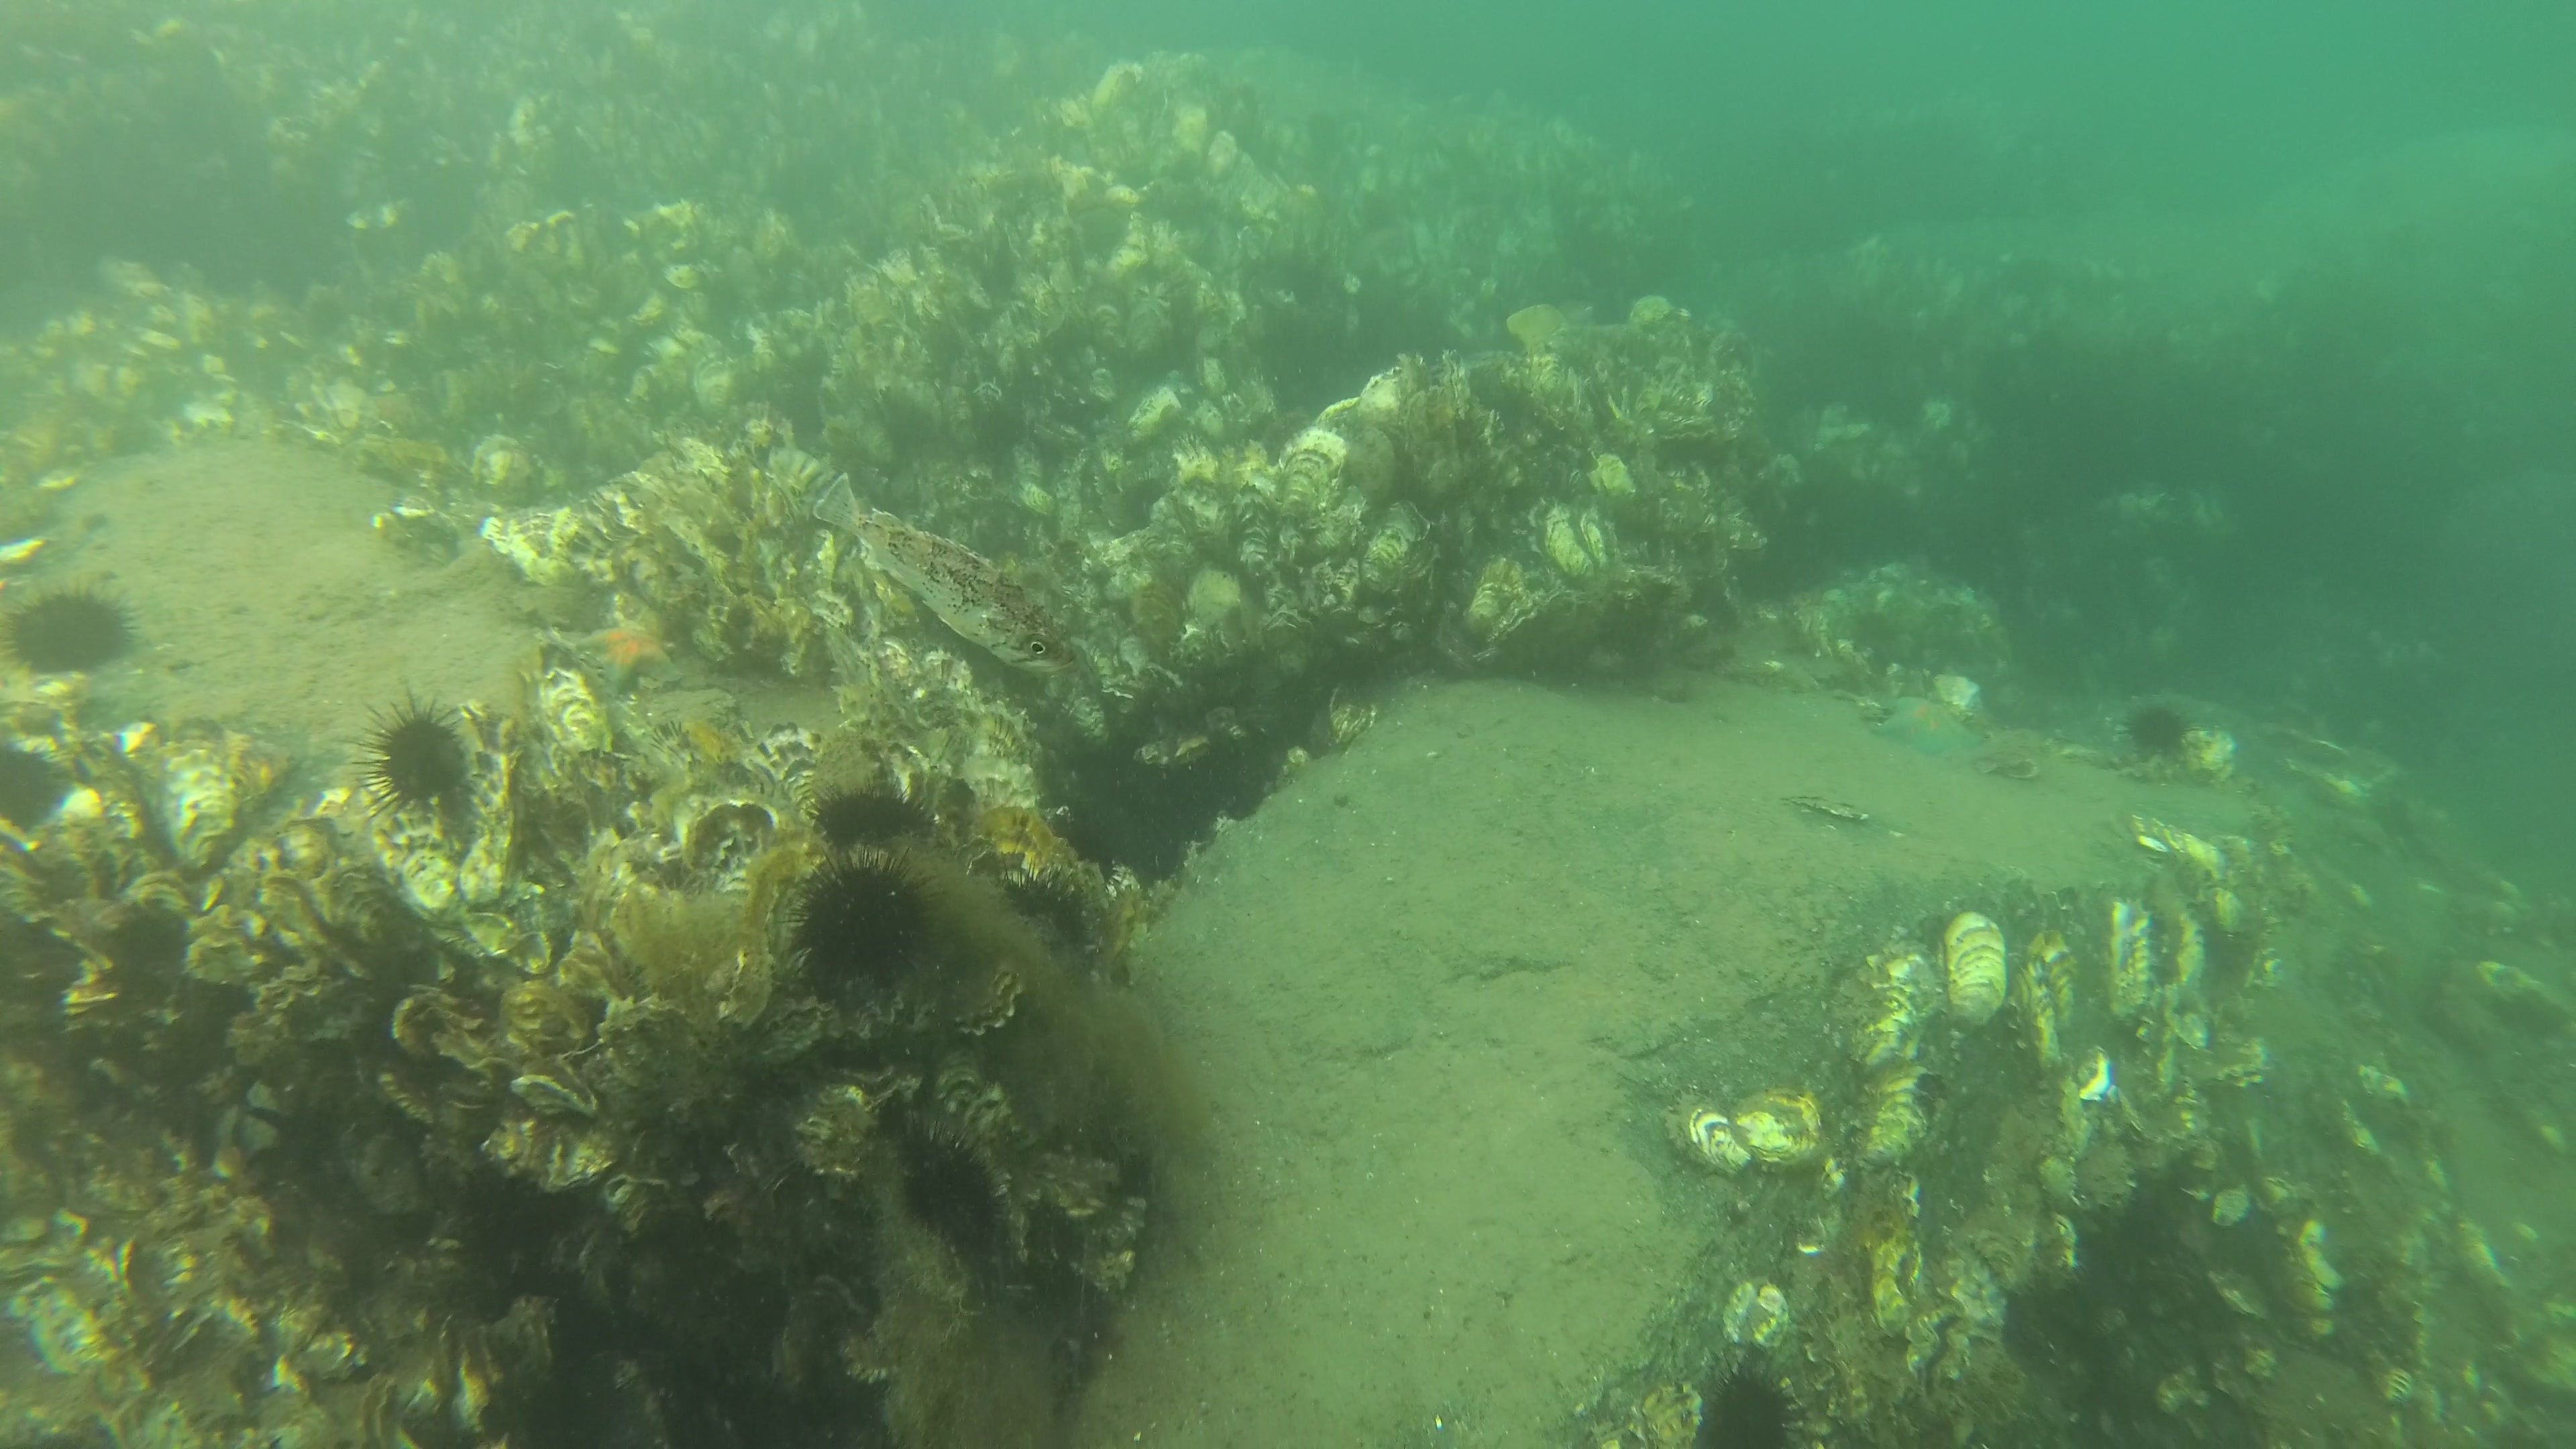echinus: (773, 844, 938, 1012), (885, 1106, 1016, 1272), (350, 681, 483, 830), (11, 584, 147, 679), (1688, 1348, 1810, 1449), (798, 771, 945, 849), (2125, 692, 2197, 768)
starfish: (570, 610, 686, 704), (1868, 681, 2001, 761)
